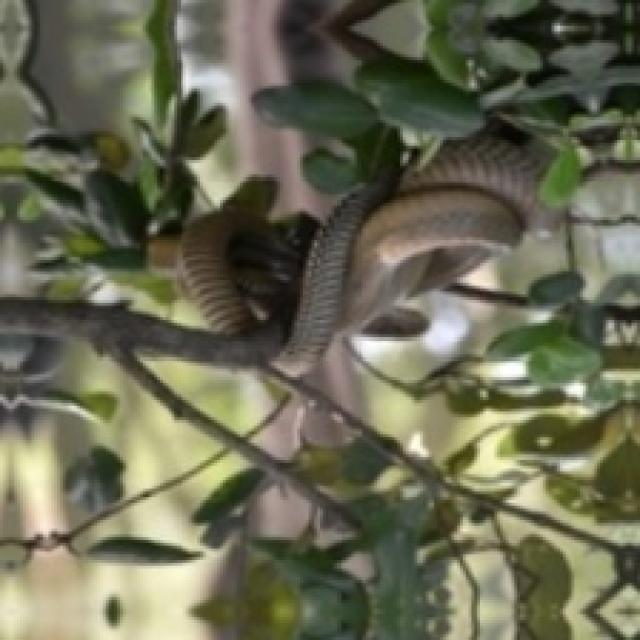king cobra: (181, 122, 544, 373)
